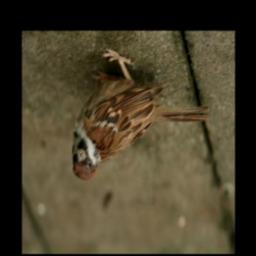Sparrow: (70, 46, 208, 183)
